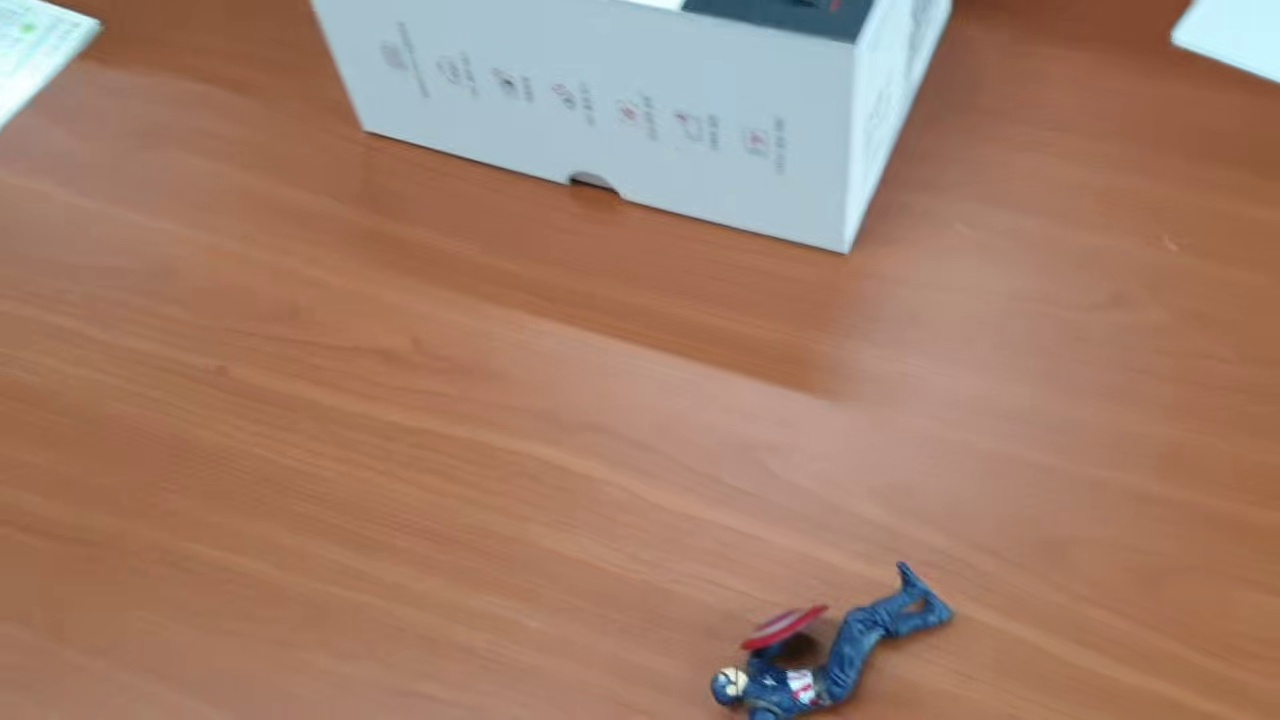people: (702, 562, 958, 720)
